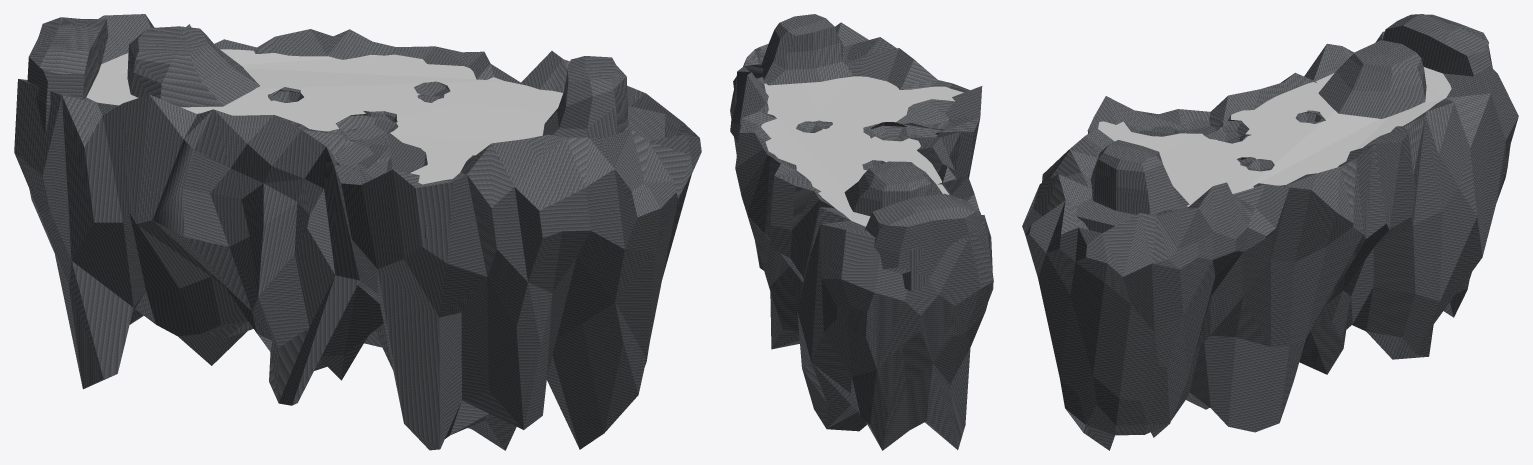
The model's file is Level2Area2Ground.fbx.
The picture shows the model from 3 angles, left to right: view 1: azimuth 30°, elevation 25°; view 2: azimuth 150°, elevation 25°; view 3: azimuth 270°, elevation 25°; orthographic projection. The views are drawn at different scales.
Parts seen in each view (by area): view 1: Landscape.029, Cylinder.035; view 2: Landscape.029, Cylinder.035; view 3: Landscape.029, Cylinder.035.
Part boxes in pixels (<box>): Landscape.029: <box>14,14,701,450</box>; Cylinder.035: <box>27,17,665,238</box>; Landscape.029: <box>730,22,993,450</box>; Cylinder.035: <box>759,14,987,290</box>; Landscape.029: <box>1022,31,1518,450</box>; Cylinder.035: <box>1076,14,1492,232</box>.
Bounding box in the file's own units: 16806 × 12094 × 17134.
